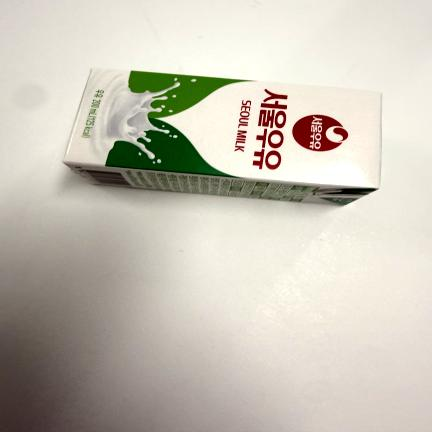milk_green: (63, 67, 383, 207)
